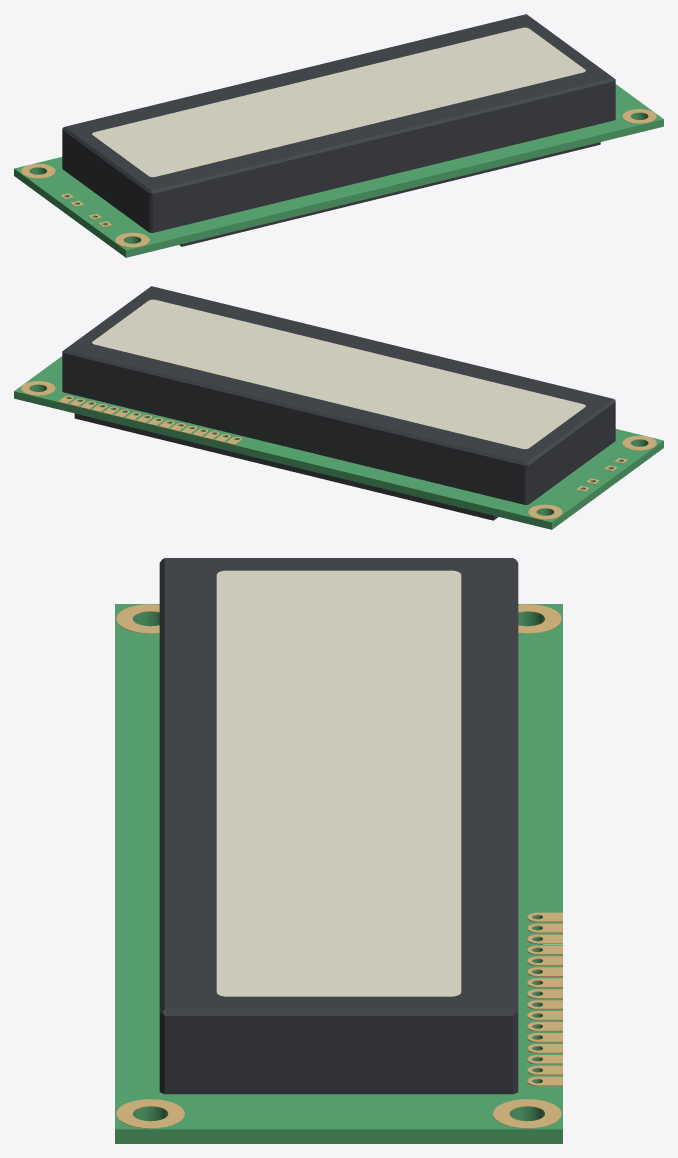
Rendered from kc-lcd-016n002l.glb.
The picture shows the model from 3 angles, top to bottom: view 1: azimuth 30°, elevation 25°; view 2: azimuth 150°, elevation 25°; view 3: azimuth 270°, elevation 25°; orthographic projection. The views are drawn at different scales.
Visible parts, largest first — view 1: 0.08333333333333333_0.08333333333333333_0.08333333333333333_, 0.75_0.75_0.6666666666666666_0, 0.08333333333333333_0.4166666666666667_0.16666666666666666_0, 0.75_0.5_0.25_0.9; view 2: 0.08333333333333333_0.08333333333333333_0.08333333333333333_, 0.75_0.75_0.6666666666666666_0, 0.08333333333333333_0.4166666666666667_0.16666666666666666_0, 0.75_0.5_0.25_0.9; view 3: 0.75_0.75_0.6666666666666666_0, 0.08333333333333333_0.08333333333333333_0.08333333333333333_, 0.08333333333333333_0.4166666666666667_0.16666666666666666_0, 0.75_0.5_0.25_0.9.
Part boxes in pixels (box(x1,y1,x2,y2)): 0.08333333333333333_0.08333333333333333_0.08333333333333333_: box(62, 14, 615, 246); 0.75_0.75_0.6666666666666666_0: box(92, 27, 585, 177); 0.08333333333333333_0.4166666666666667_0.16666666666666666_0: box(14, 84, 663, 257); 0.75_0.5_0.25_0.9: box(21, 109, 656, 247); 0.08333333333333333_0.08333333333333333_0.08333333333333333_: box(62, 286, 615, 520); 0.75_0.75_0.6666666666666666_0: box(92, 299, 585, 449); 0.08333333333333333_0.4166666666666667_0.16666666666666666_0: box(14, 356, 663, 529); 0.75_0.5_0.25_0.9: box(21, 381, 656, 519); 0.75_0.75_0.6666666666666666_0: box(216, 570, 461, 996); 0.08333333333333333_0.08333333333333333_0.08333333333333333_: box(159, 558, 518, 1094); 0.08333333333333333_0.4166666666666667_0.16666666666666666_0: box(115, 604, 562, 1143); 0.75_0.5_0.25_0.9: box(116, 604, 562, 1128).
Size of the model in its own units: 12.2 by 1.52 by 4.4.
